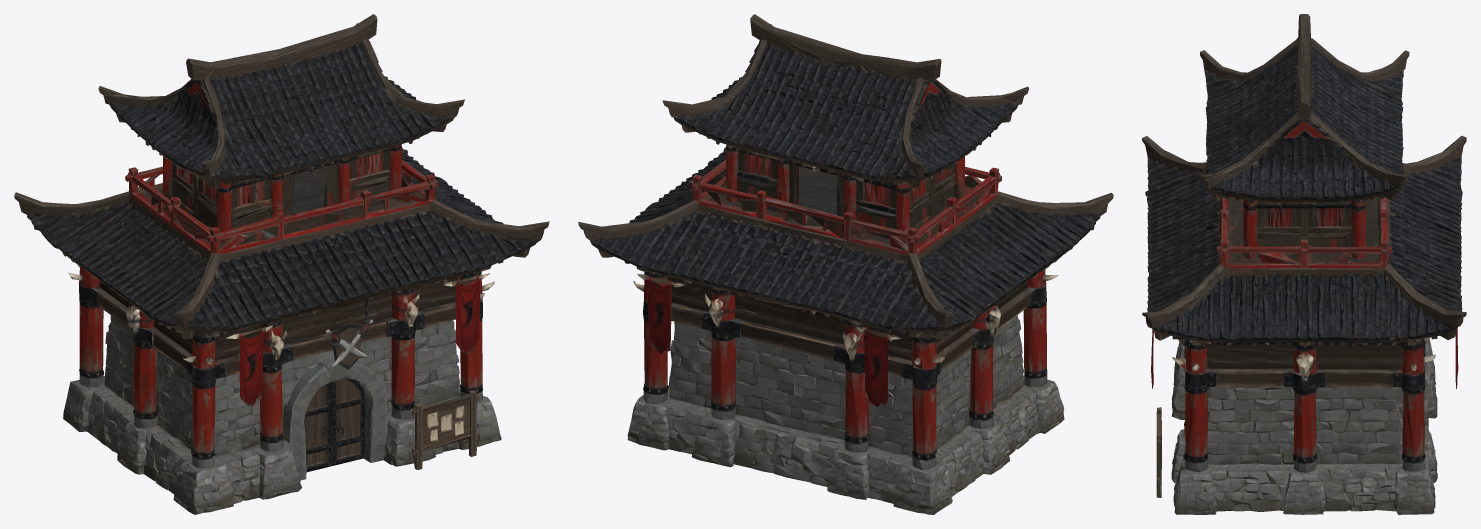
Rendered from guild_hall.glb.
3 views of the same model, side by side, from view 1: azimuth 30°, elevation 25°; view 2: azimuth 150°, elevation 25°; view 3: azimuth 270°, elevation 25° (orthographic). The views are drawn at different scales.
Parts seen in each view (by area): view 1: guild_hall; view 2: guild_hall; view 3: guild_hall.
Boxes of the visible parts, x1,y1,x2,y2 form: guild_hall: (14,14,549,514); guild_hall: (578,14,1113,514); guild_hall: (1142,14,1466,514).
Bounding box in the file's own units: 15.98 × 16 × 12.27.
1 material, 1 textured.
